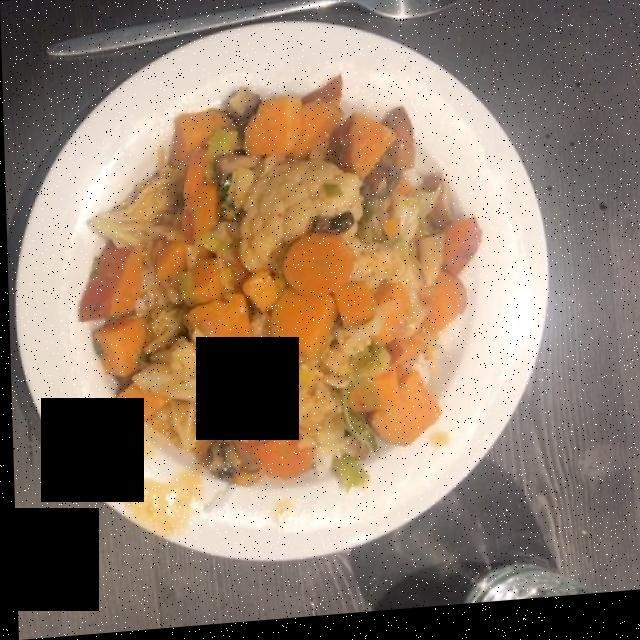curry-vegetarian: (70, 98, 475, 478)
rice: (299, 421, 353, 471)
